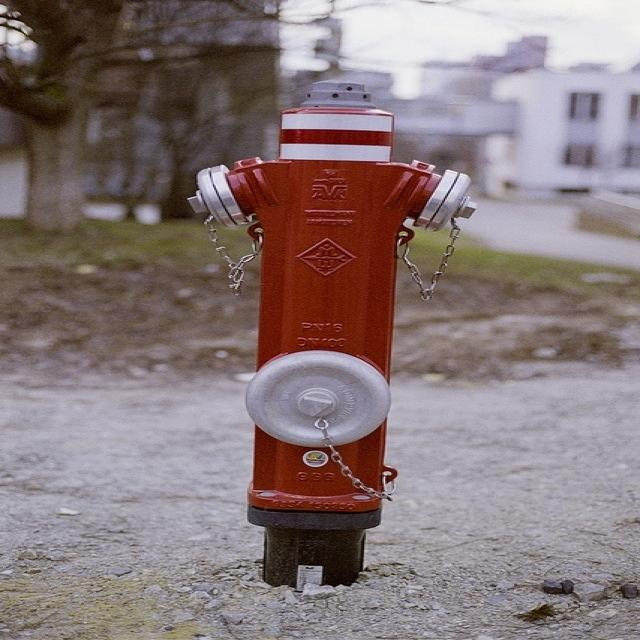fire_hydrant: (162, 10, 570, 596)
